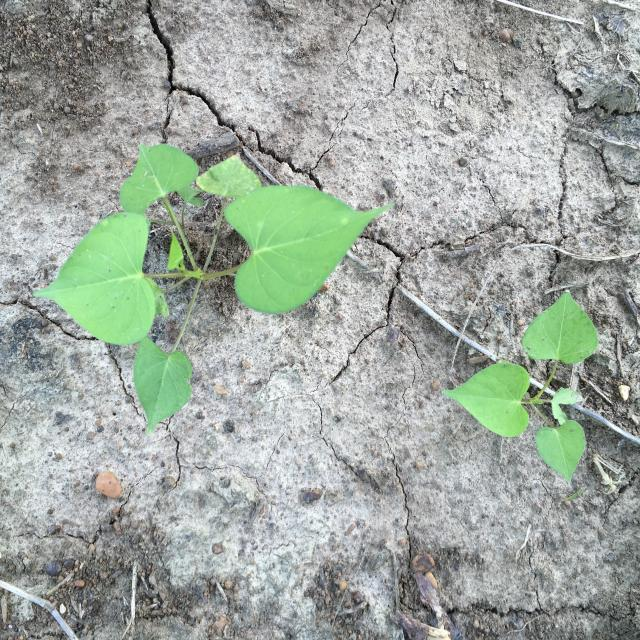MorningGlory: (32, 141, 395, 437), (442, 288, 599, 484)
